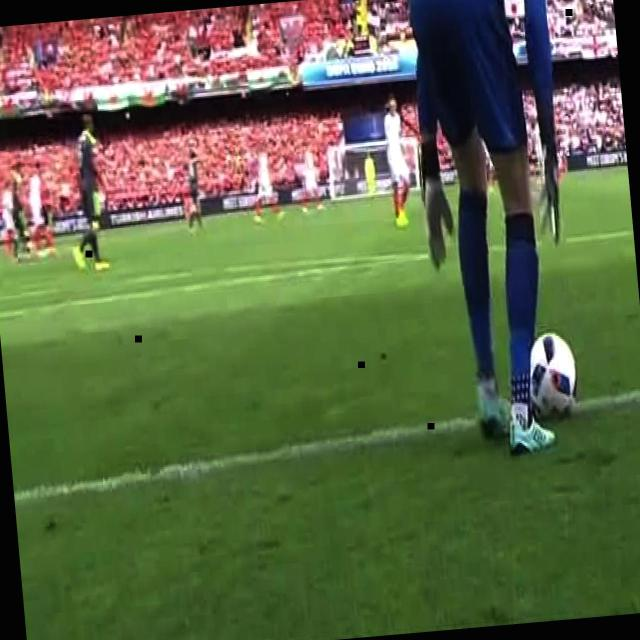ball: (524, 330, 580, 421)
player-white: (399, 0, 593, 462), (62, 115, 112, 276), (381, 97, 414, 226), (249, 144, 285, 226), (26, 161, 52, 255), (7, 164, 31, 256), (182, 151, 207, 231), (297, 141, 323, 213), (1, 182, 19, 262), (362, 152, 378, 202)
